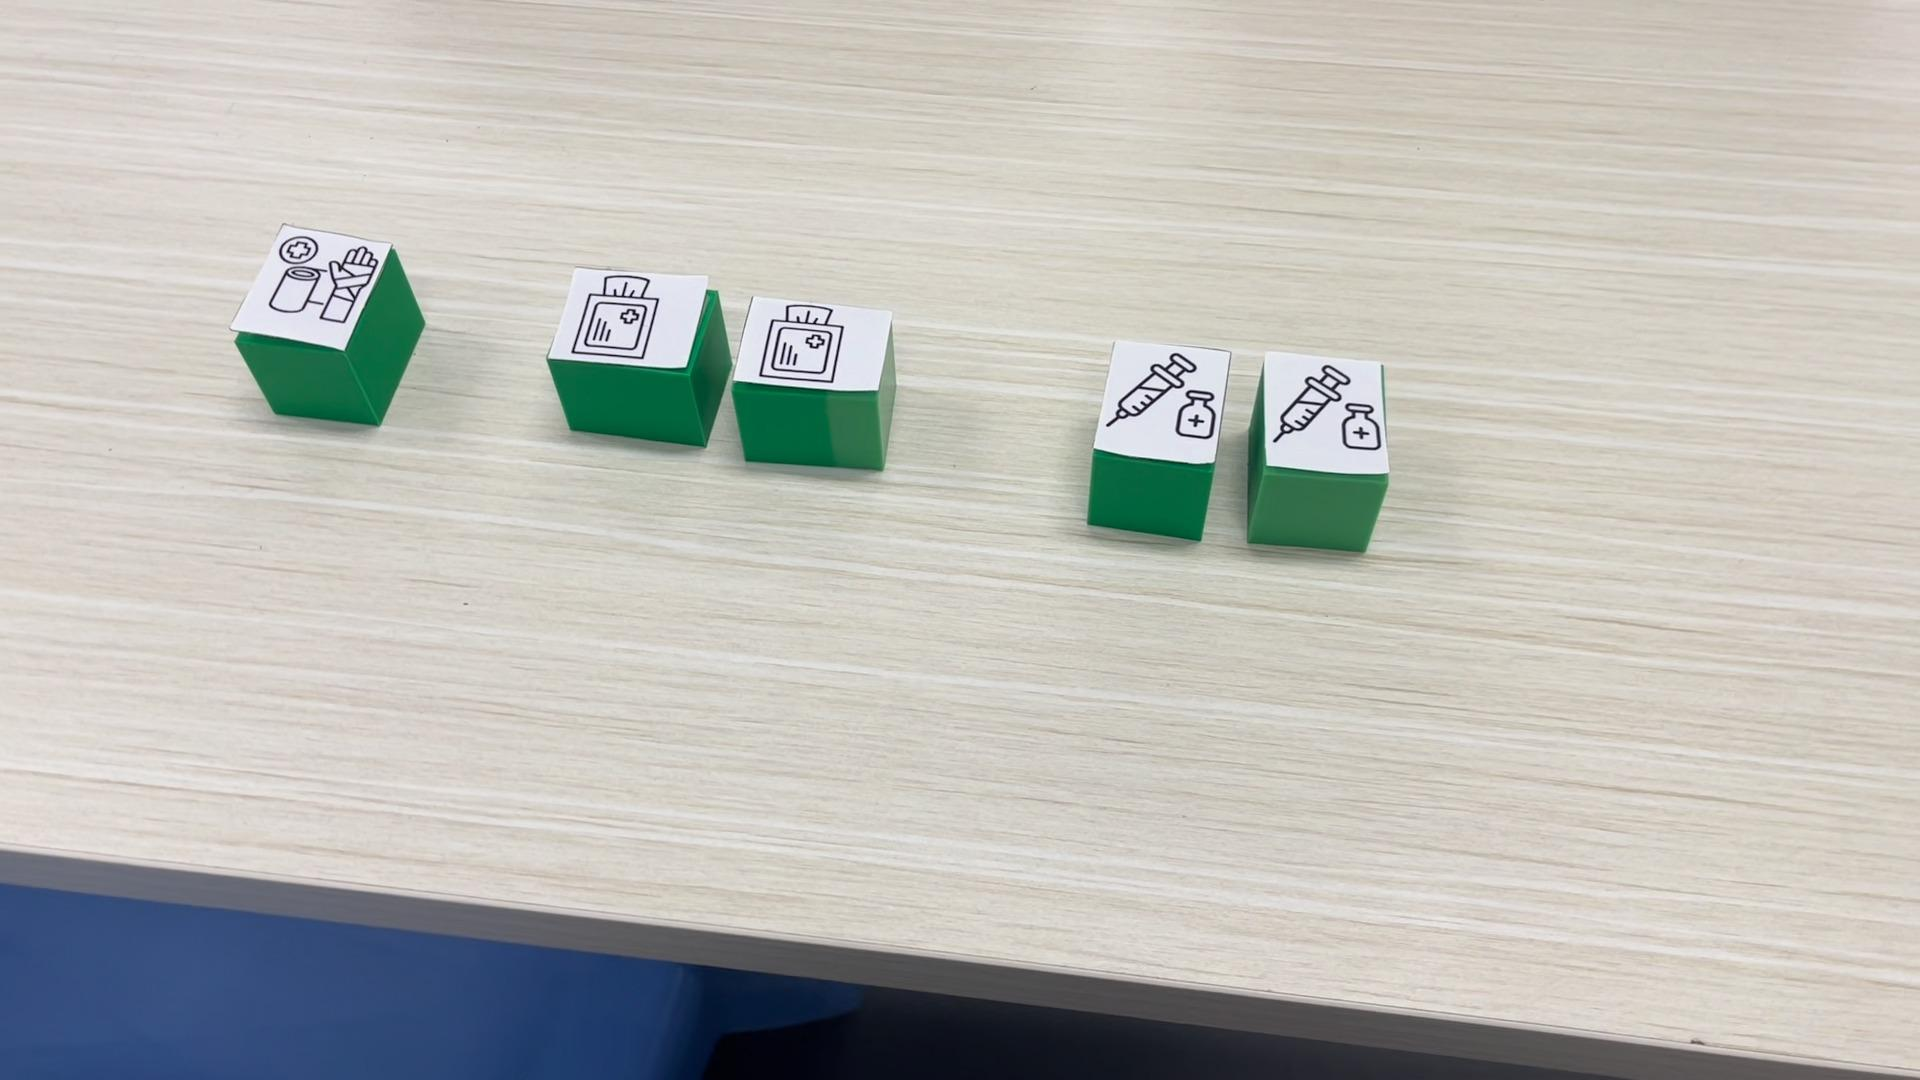Bandages: (229, 225, 426, 426)
Gauze: (547, 266, 732, 450), (732, 291, 899, 473)
antiseptic cream: (1241, 340, 1393, 551), (1084, 339, 1233, 545)
